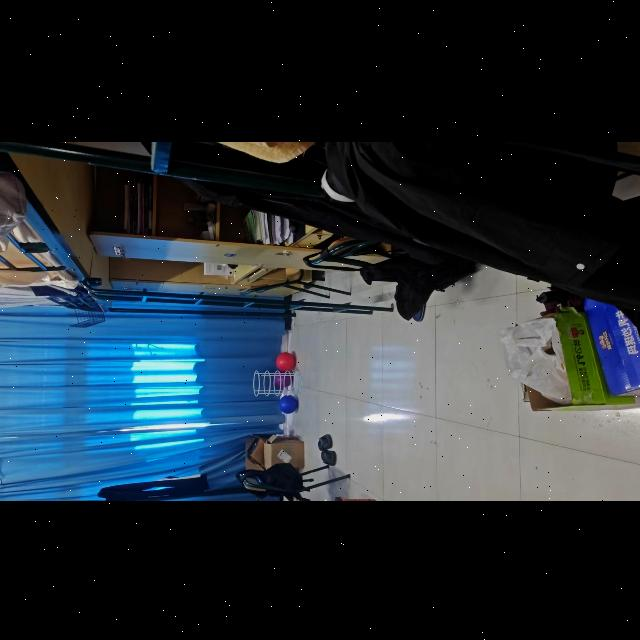B: (279, 394, 298, 413)
P: (274, 372, 292, 386)
R: (275, 351, 295, 370)
S: (254, 368, 302, 396)
